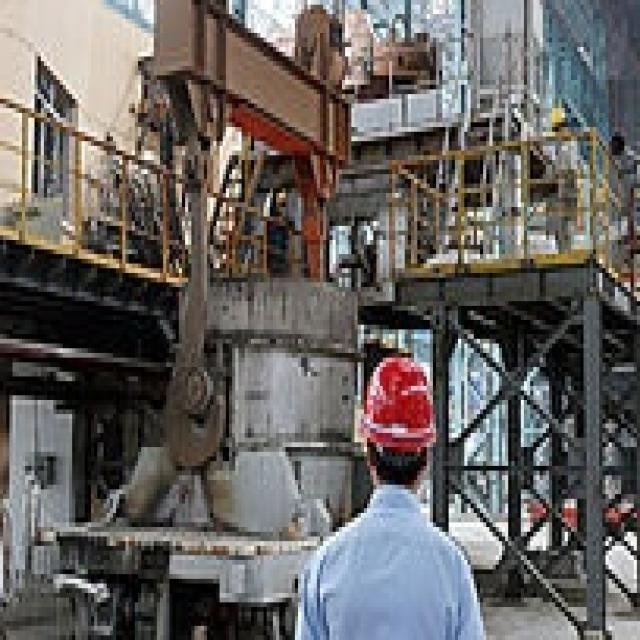Con_Casco: (365, 358, 435, 477)
Sin_Chaleco: (300, 491, 475, 640)
